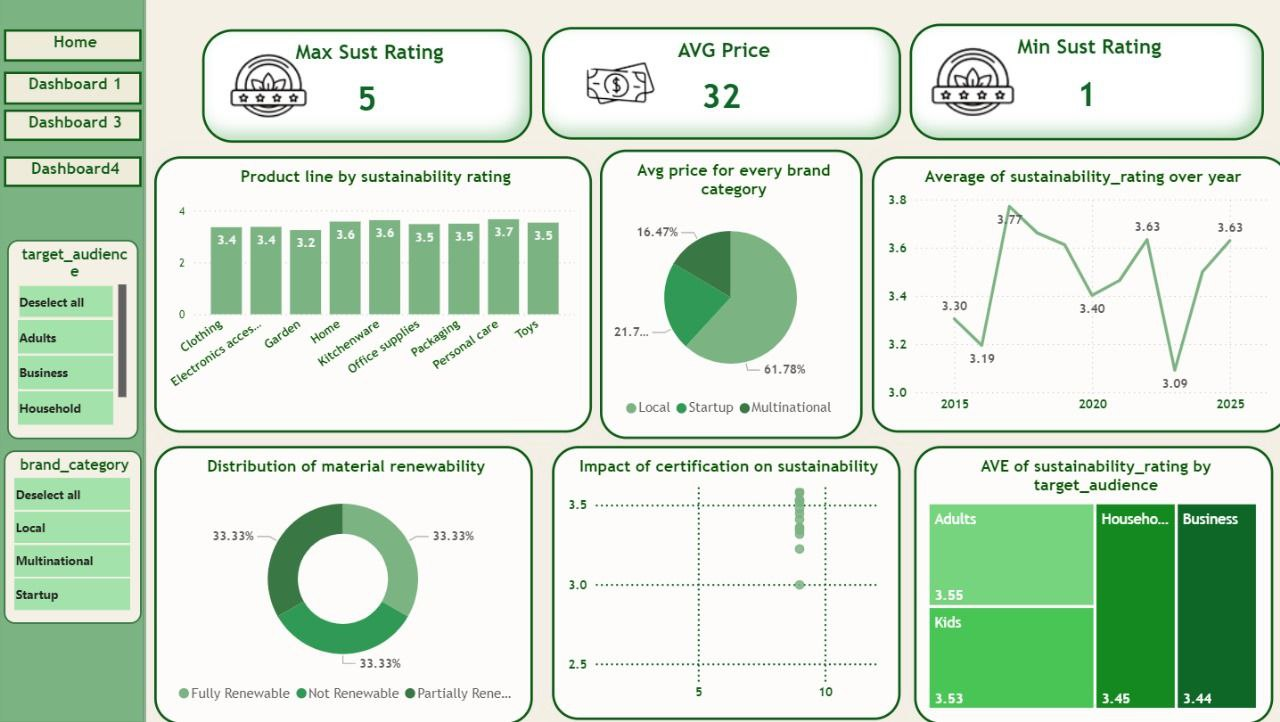

The dashboard page shown, as its layout file describes it:
{"tool":"powerbi","page":{"name":"Dashboard2","canvas":[1280,720],"ordinal":2},"visuals":[{"type":"clusteredColumnChart","title":"Product line by sustainability rating","fields":{"Category":["Sustainability_Fact.product_line"],"Y":["Avg(Sustainability_Fact.sustainability_rating)"]},"box":[153.9,159.4,432.1,272.7],"z":0},{"type":"pieChart","title":"Avg price for every brand category","fields":{"Y":["Sum(Sustainability_Fact.average_price)"],"Category":["Brand_dim.brand_category"]},"box":[593.8,152.8,259.5,285.9],"z":1000},{"type":"donutChart","title":"Distribution of material renewability","fields":{"Category":["Material_dim.material_status"],"Y":["CountNonNull(Brand_dim.brand_name)"]},"box":[153.9,445.3,373.9,274.9],"z":2000},{"type":"lineChart","title":"Average of sustainability_rating over year","fields":{"Y":["Avg(Sustainability_Fact.sustainability_rating)"],"Category":["Year_dim.year"]},"box":[862.1,159.4,412.3,272.7],"z":3000},{"type":"card","title":"Min Sust Rating","fields":{"Values":["Min(Sustainability_Fact.sustainability_rating)"]},"box":[899.5,28.6,349.7,115.5],"z":4000},{"type":"card","title":"Max Sust Rating","fields":{"Values":["Max(Sustainability_Fact.sustainability_rating)"]},"box":[201.2,34.1,325.5,112.2],"z":5000},{"type":"card","title":"AVG Price","fields":{"Values":["Avg(Sustainability_Fact.average_price)"]},"box":[536.6,31.9,354.1,111.1],"z":6000},{"type":"image","box":[546.5,36.3,131.9,99],"z":7000},{"type":"image","box":[903.9,41.8,116.6,89.1],"z":8000},{"type":"image","box":[211.1,48.4,111.1,83.6],"z":9000},{"type":"shape","box":[0,0,145.3,719.8],"z":10000},{"type":"actionButton","title":"Dashboard 3","box":[5.8,112.8,136,31.4],"z":11000},{"type":"actionButton","title":"Dashboard4","box":[5.5,159.4,136.3,30.8],"z":12000},{"type":"actionButton","title":"Dashboard 1","box":[5.8,75.6,136,32.6],"z":13000},{"type":"actionButton","title":"Home","box":[5.5,34.1,136.3,31.9],"z":14000},{"type":"treemap","title":"AVE of sustainability_rating by target_audience","fields":{"Values":["Avg(Sustainability_Fact.sustainability_rating)"],"Group":["Product_Category_dim.target_audience"]},"box":[903.9,445.3,354.1,274.9],"z":15000},{"type":"scatterChart","title":"Impact of certification on sustainability","fields":{"X":["Certification_dim.certification"],"Y":["Avg(Sustainability_Fact.sustainability_rating)"],"Category":["Brand_dim.brand_name"]},"box":[546.5,445.3,344.2,270.5],"z":16000},{"type":"listSlicer","fields":{"Values":["Product_Category_dim.target_audience"]},"box":[8.8,241.9,129.8,196.8],"z":17000},{"type":"listSlicer","fields":{"Values":["Brand_dim.brand_category"]},"box":[5.5,449.7,136.3,171.5],"z":18000}]}

Visuals, with their boxes in screenshot pixels (x1, y1, x2, y2), scaled from the page's 1280x720 canvas onto the 1280x722 screenshot:
"Product line by sustainability rating" clusteredColumnChart: (x1=154, y1=160, x2=586, y2=433)
"Avg price for every brand category" pieChart: (x1=594, y1=153, x2=853, y2=440)
"Distribution of material renewability" donutChart: (x1=154, y1=447, x2=528, y2=721)
"Average of sustainability_rating over year" lineChart: (x1=862, y1=160, x2=1274, y2=433)
"Min Sust Rating" card: (x1=900, y1=29, x2=1249, y2=145)
"Max Sust Rating" card: (x1=201, y1=34, x2=527, y2=147)
"AVG Price" card: (x1=537, y1=32, x2=891, y2=143)
image: (x1=546, y1=36, x2=678, y2=136)
image: (x1=904, y1=42, x2=1020, y2=131)
image: (x1=211, y1=49, x2=322, y2=132)
shape: (x1=0, y1=0, x2=145, y2=721)
"Dashboard 3" actionButton: (x1=6, y1=113, x2=142, y2=145)
"Dashboard4" actionButton: (x1=6, y1=160, x2=142, y2=191)
"Dashboard 1" actionButton: (x1=6, y1=76, x2=142, y2=109)
"Home" actionButton: (x1=6, y1=34, x2=142, y2=66)
"AVE of sustainability_rating by target_audience" treemap: (x1=904, y1=447, x2=1258, y2=721)
"Impact of certification on sustainability" scatterChart: (x1=546, y1=447, x2=891, y2=718)
listSlicer - Product_Category_dim.target_audience: (x1=9, y1=243, x2=139, y2=440)
listSlicer - Brand_dim.brand_category: (x1=6, y1=451, x2=142, y2=623)
